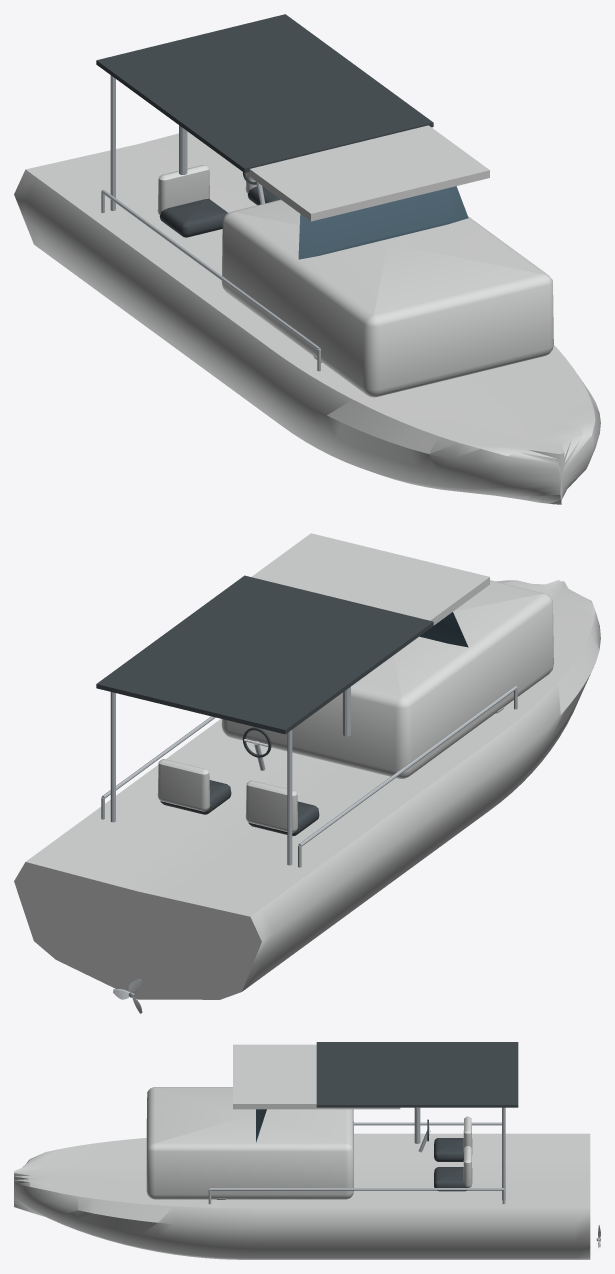
The model's file is powerboat-racing-and-launch-ramp-cabin-cruiser-canopy-11c4fda1.glb.
3 renders of one model, top to bottom at view 1: azimuth 30°, elevation 25°; view 2: azimuth 150°, elevation 25°; view 3: azimuth 270°, elevation 25°, orthographic. The views are drawn at different scales.
Visible parts, largest first — view 1: cabin-cruiser-canopy; view 2: cabin-cruiser-canopy; view 3: cabin-cruiser-canopy.
Boxes of the visible parts, x1,y1,x2,y2 form: cabin-cruiser-canopy: [14, 14, 600, 504]; cabin-cruiser-canopy: [14, 533, 600, 999]; cabin-cruiser-canopy: [14, 1042, 590, 1259].
Bounding box in the file's own units: 2.7 × 2.72 × 8.15.
